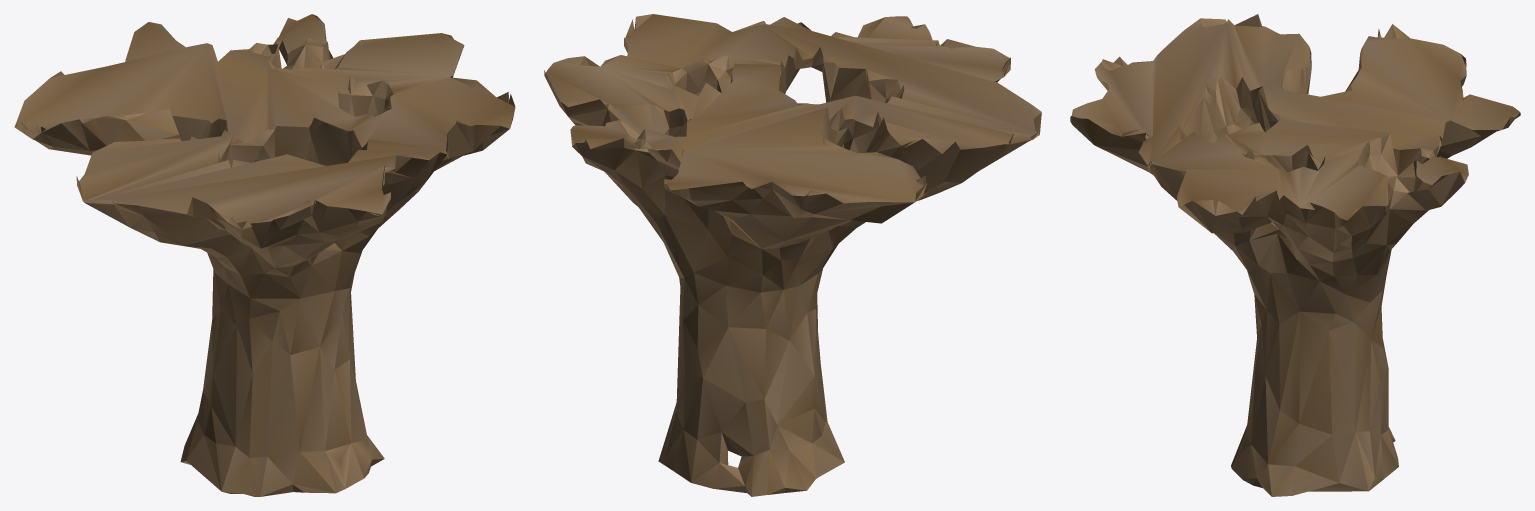
File: poplar_stump.glb
3 views of the same model, side by side, from view 1: azimuth 30°, elevation 25°; view 2: azimuth 150°, elevation 25°; view 3: azimuth 270°, elevation 25° (orthographic). The views are drawn at different scales.
Parts seen in each view (by area): view 1: Stump; view 2: Stump; view 3: Stump.
Boxes of the visible parts, left/top/right/bottom form: Stump: left=14, top=14, right=515, bottom=496; Stump: left=544, top=14, right=1041, bottom=496; Stump: left=1070, top=14, right=1520, bottom=496.
Bounding box in the file's own units: 0.9825 × 0.7847 × 0.9369.
